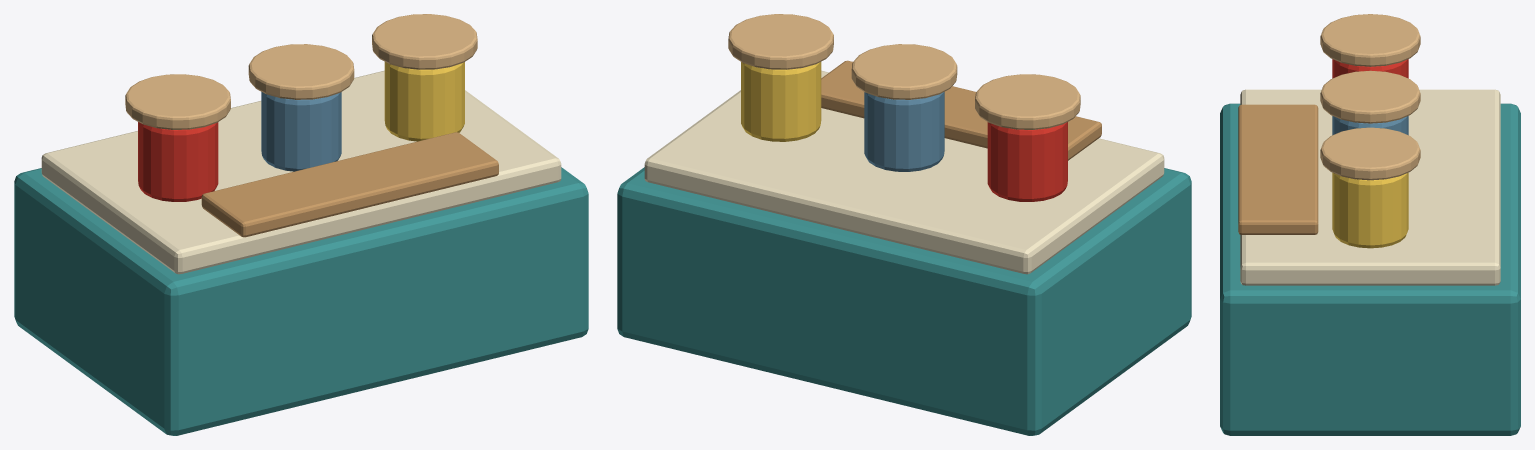
Rendered from P092_sewing_kit.glb.
3 views of the same model, side by side, from view 1: azimuth 30°, elevation 25°; view 2: azimuth 150°, elevation 25°; view 3: azimuth 270°, elevation 25° (orthographic). The views are drawn at different scales.
Parts seen in each view (by area): view 1: P092_case_001, P092_open_tray_002, P092_needle_packet_012, P092_thread_003, P092_thread_009, P092_thread_006, P092_spool_top_008, P092_spool_top_011, P092_spool_top_005; view 2: P092_case_001, P092_open_tray_002, P092_thread_006, P092_thread_009, P092_thread_003, P092_spool_top_008, P092_spool_top_011, P092_spool_top_005, P092_needle_packet_012; view 3: P092_case_001, P092_open_tray_002, P092_needle_packet_012, P092_thread_009, P092_spool_top_005, P092_spool_top_008, P092_spool_top_011, P092_thread_006, P092_thread_003.
Boxes of the visible parts, box(x1,y1,x2,y2) form: P092_case_001: box(14, 167, 588, 435); P092_open_tray_002: box(41, 70, 561, 274); P092_needle_packet_012: box(201, 132, 498, 237); P092_thread_003: box(138, 122, 218, 201); P092_thread_009: box(384, 62, 464, 141); P092_thread_006: box(261, 92, 341, 171); P092_spool_top_008: box(248, 44, 354, 99); P092_spool_top_011: box(372, 14, 477, 69); P092_spool_top_005: box(125, 74, 230, 129); P092_case_001: box(617, 167, 1191, 435); P092_open_tray_002: box(644, 70, 1164, 274); P092_thread_006: box(864, 92, 944, 171); P092_thread_009: box(741, 62, 821, 141); P092_thread_003: box(987, 122, 1067, 201); P092_spool_top_008: box(851, 44, 957, 99); P092_spool_top_011: box(728, 14, 833, 69); P092_spool_top_005: box(975, 74, 1080, 129); P092_needle_packet_012: box(821, 60, 1101, 160); P092_case_001: box(1220, 103, 1520, 435); P092_open_tray_002: box(1240, 89, 1500, 285); P092_needle_packet_012: box(1238, 104, 1318, 234); P092_thread_009: box(1332, 172, 1408, 248); P092_spool_top_005: box(1320, 14, 1420, 66); P092_spool_top_008: box(1320, 70, 1420, 123); P092_spool_top_011: box(1320, 127, 1420, 180); P092_thread_006: box(1332, 116, 1408, 135); P092_thread_003: box(1332, 59, 1408, 78).
Size of the model in its own units: 0.23 by 0.1385 by 0.15.
